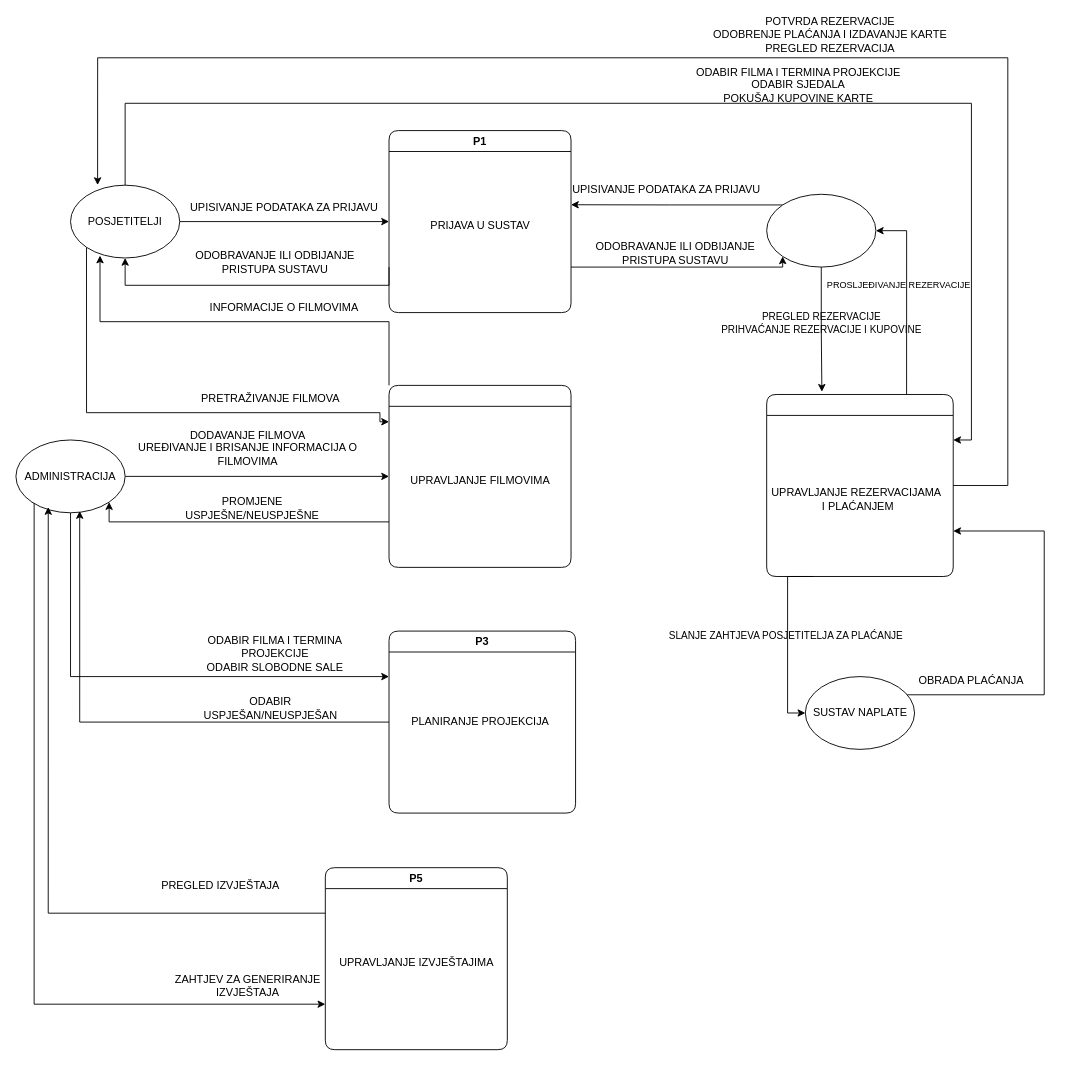
Some shapes in this 1067 by 1066 pixel diagram are drawn without their labels. The shapes that lost their labels are listed below. From the top down, each one's box as (x1, y1, x2, y2) in pixels, then its label:
(766, 193, 876, 267): OSOBLJE
(388, 384, 571, 567): P2
(766, 394, 953, 576): P4
